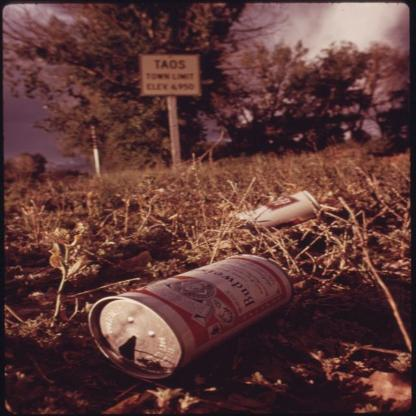Can: (76, 252, 314, 384), (221, 176, 317, 235)
